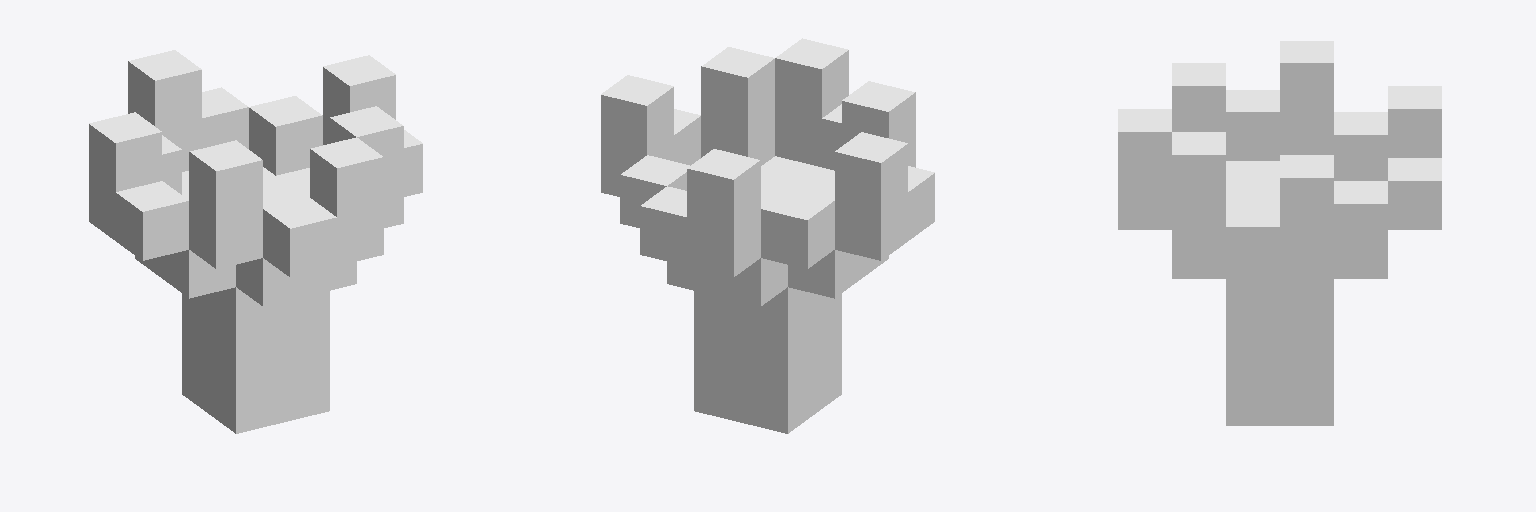
The model's file is grass-forest8.obj.
3 views of the same model, side by side, from view 1: azimuth 30°, elevation 25°; view 2: azimuth 150°, elevation 25°; view 3: azimuth 270°, elevation 25° (orthographic).
Parts seen in each view (by area): view 1: object 1; view 2: object 1; view 3: object 1.
Part boxes in pixels (bbox=[...]): object 1: bbox=[89, 50, 422, 433]; object 1: bbox=[601, 38, 934, 433]; object 1: bbox=[1118, 41, 1441, 425].
Bounding box in the file's own units: 0.6 × 0.6 × 0.6.